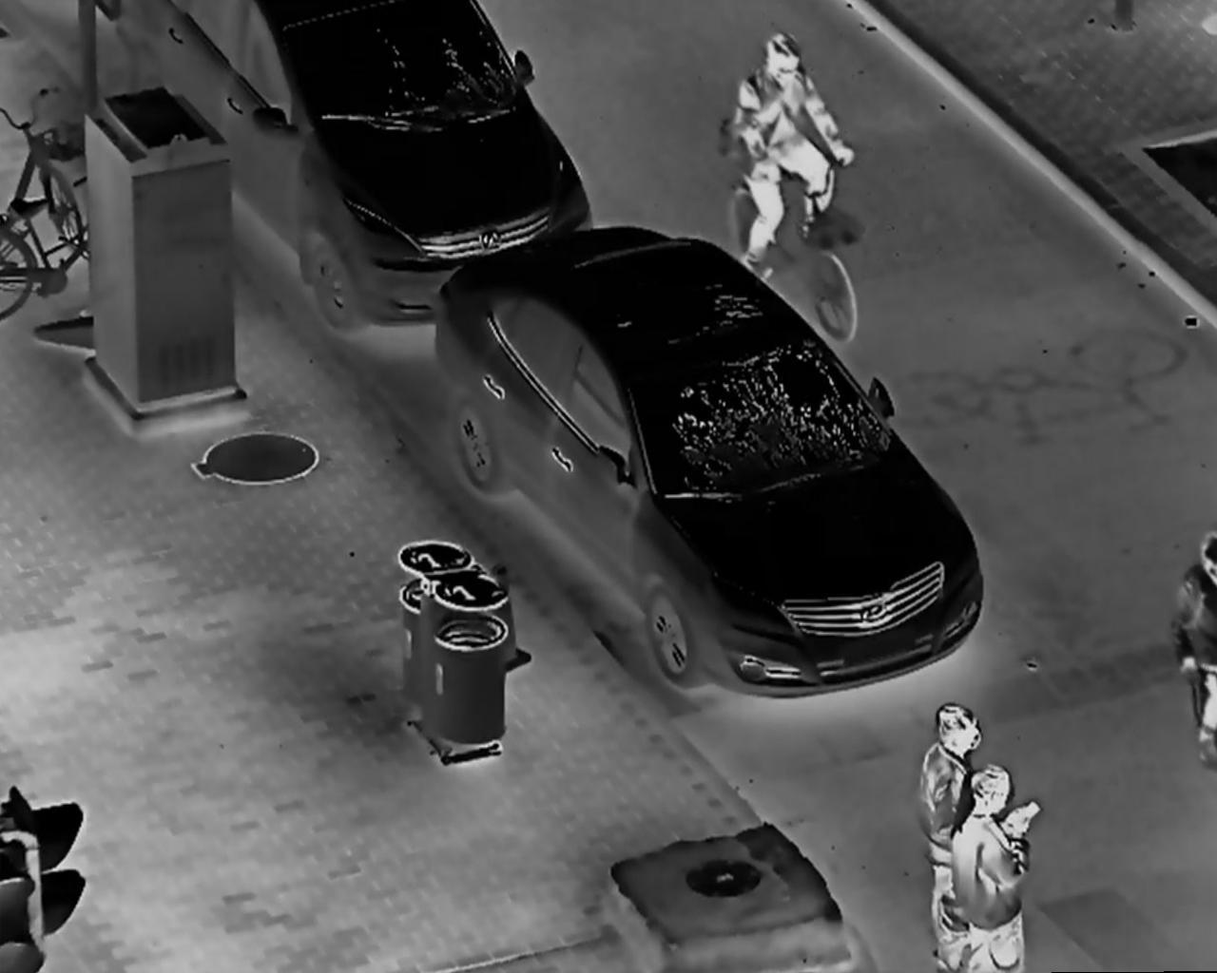person: (729, 29, 856, 279), (911, 701, 985, 973), (951, 764, 1042, 973), (1167, 522, 1217, 770)
